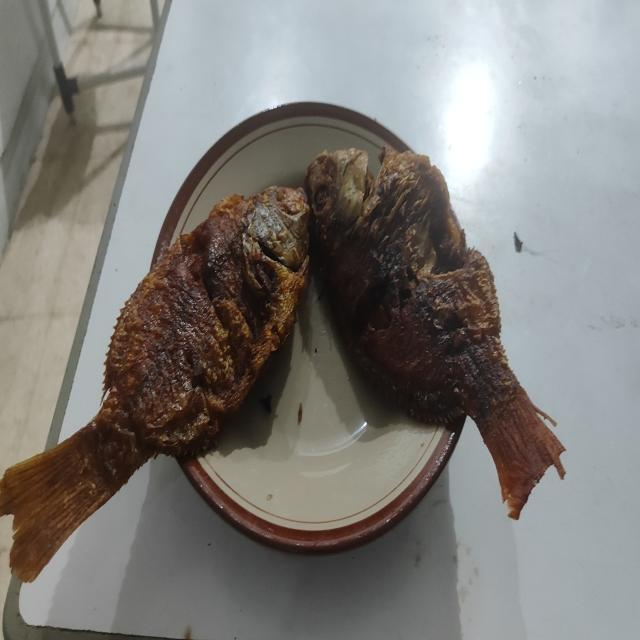ikan_mujair: (0, 187, 309, 582), (304, 148, 566, 520)
